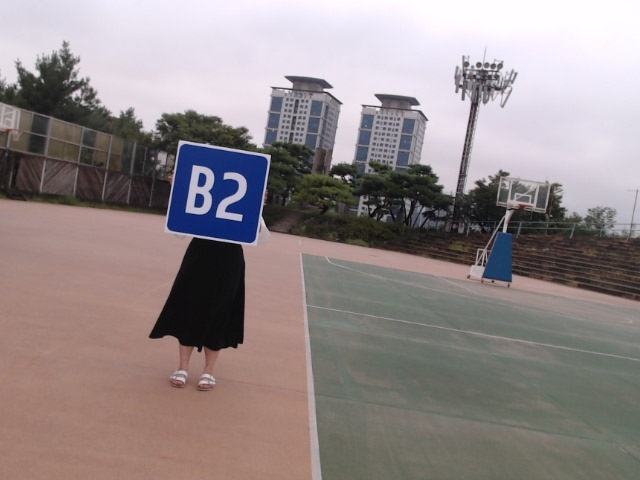delivery_b2: (165, 143, 271, 245)
